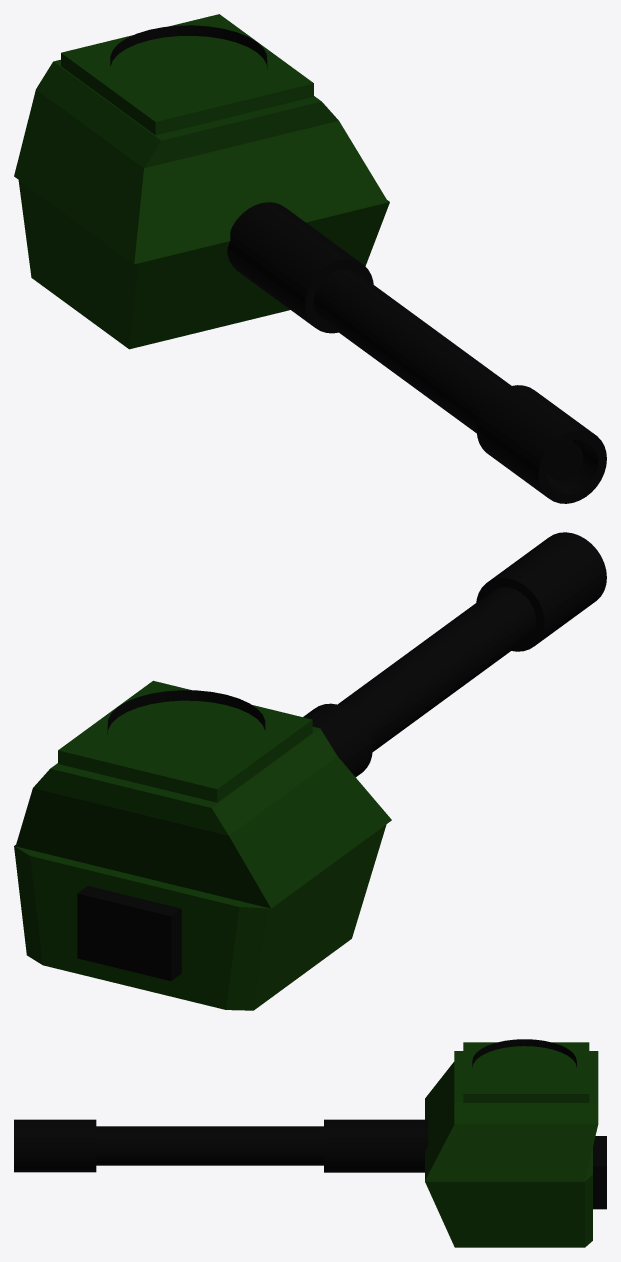
Rendered from turret.fbx.
3 renders of one model, top to bottom at view 1: azimuth 30°, elevation 25°; view 2: azimuth 150°, elevation 25°; view 3: azimuth 270°, elevation 25°, orthographic. The views are drawn at different scales.
Parts seen in each view (by area): view 1: Cube.001, Cube.002; view 2: Cube.001, Cube.002; view 3: Cube.001, Cube.002.
Part boxes in pixels (bbox=[...]): Cube.001: bbox=[14, 14, 389, 349]; Cube.002: bbox=[227, 202, 606, 503]; Cube.001: bbox=[14, 680, 391, 1010]; Cube.002: bbox=[303, 532, 606, 777]; Cube.001: bbox=[425, 1039, 606, 1247]; Cube.002: bbox=[14, 1119, 428, 1172].
Bounding box in the file's own units: 246 × 207 × 741.
